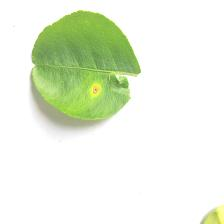greening: (24, 6, 148, 126)
